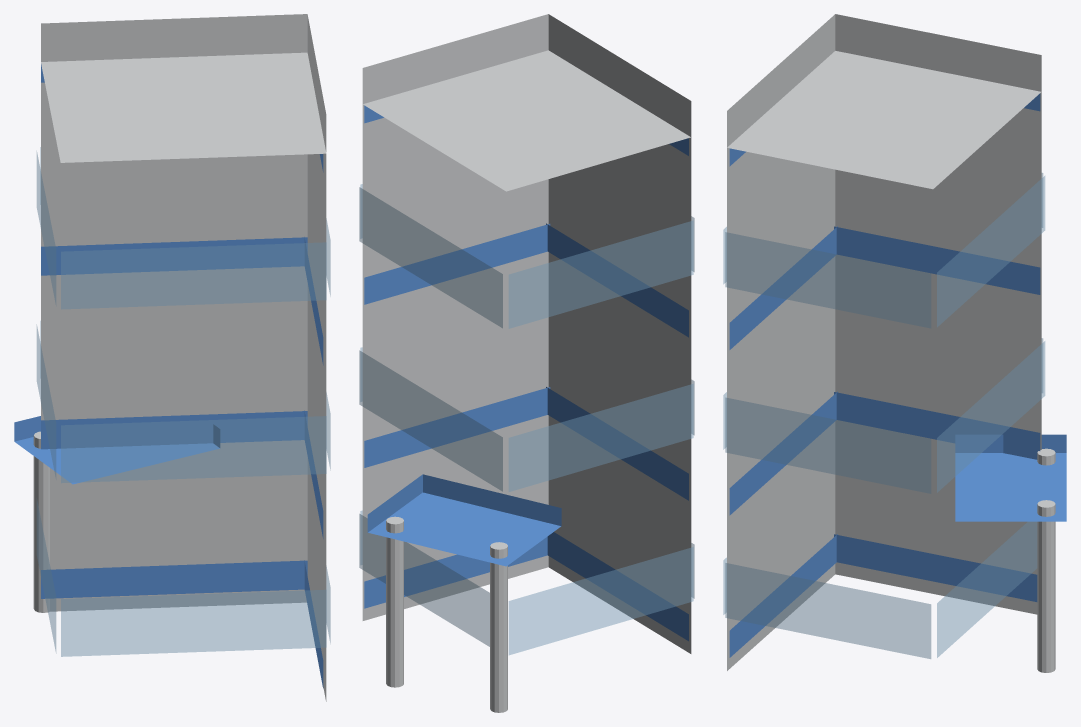
3 renders of one model, left to right at view 1: azimuth 30°, elevation 25°; view 2: azimuth 150°, elevation 25°; view 3: azimuth 270°, elevation 25°, orthographic. The views are drawn at different scales.
Visible parts, largest first — view 1: ov332_Police_WhitePlaster, ov332_Police_Glazing, ov332_Police_BlueBanding; view 2: ov332_Police_WhitePlaster, ov332_Police_Glazing, ov332_Police_BlueBanding; view 3: ov332_Police_WhitePlaster, ov332_Police_Glazing, ov332_Police_BlueBanding.
Part boxes in pixels (bbox=[...]): ov332_Police_WhitePlaster: bbox=[33, 14, 326, 701]; ov332_Police_Glazing: bbox=[36, 147, 330, 656]; ov332_Police_BlueBanding: bbox=[14, 64, 323, 688]; ov332_Police_WhitePlaster: bbox=[362, 14, 691, 712]; ov332_Police_Glazing: bbox=[359, 184, 694, 655]; ov332_Police_BlueBanding: bbox=[364, 105, 688, 641]; ov332_Police_WhitePlaster: bbox=[727, 14, 1055, 672]; ov332_Police_Glazing: bbox=[723, 173, 1045, 658]; ov332_Police_BlueBanding: bbox=[729, 93, 1066, 657].
Bounding box in the file's own units: 6.61 × 12.2 × 6.78.
